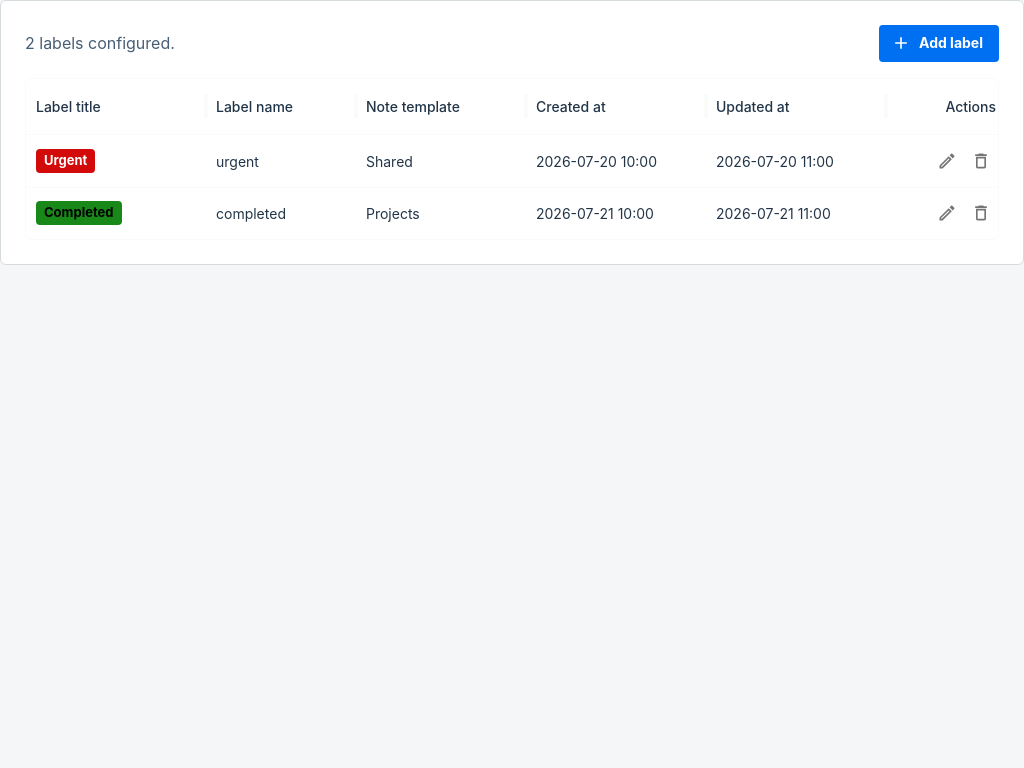
NoteLabelsSection › shows invalid color format feedback
Click the button "Add label" at (939, 43), box top-left (879, 25), bottom-right (999, 62)
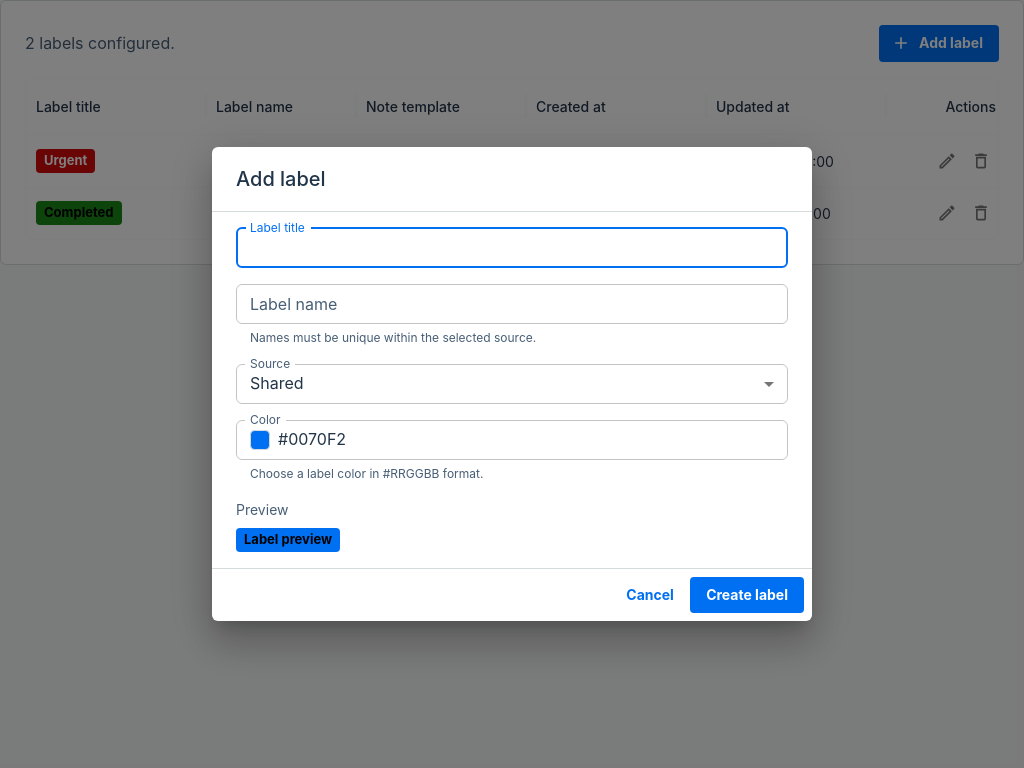
Type "Invalid color" into the field labelled "Label title" at (512, 248), box top-left (236, 228), bottom-right (788, 268)
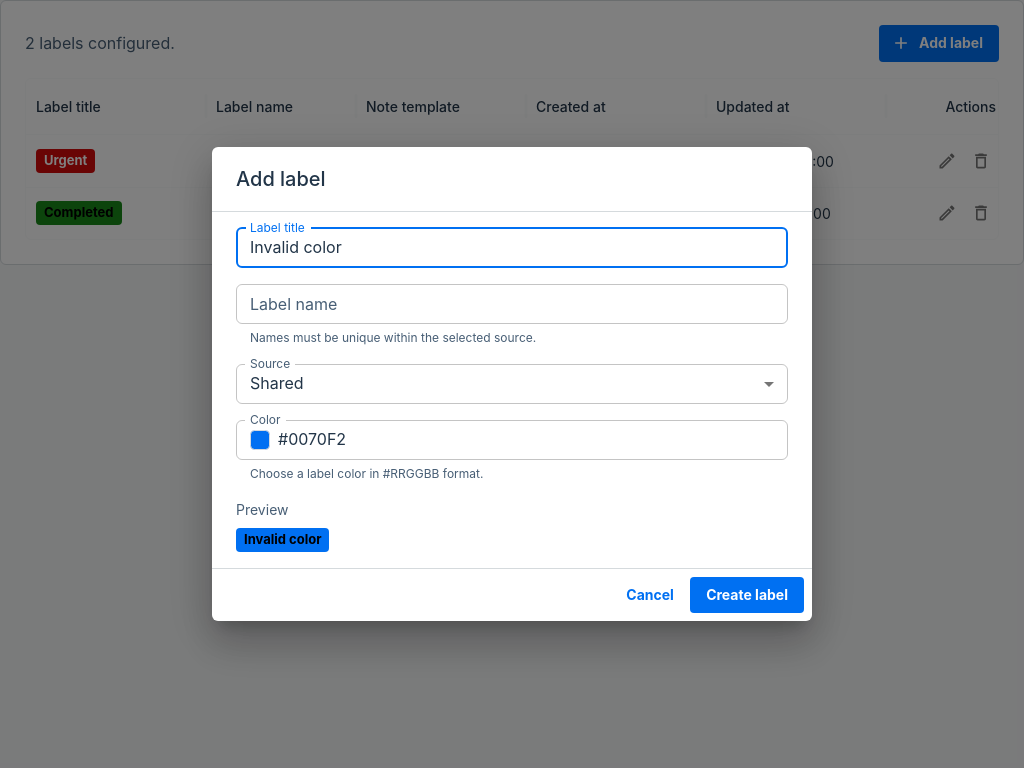
Type "invalid-color" into the field labelled "Label name" at (512, 304), box top-left (236, 284), bottom-right (788, 324)
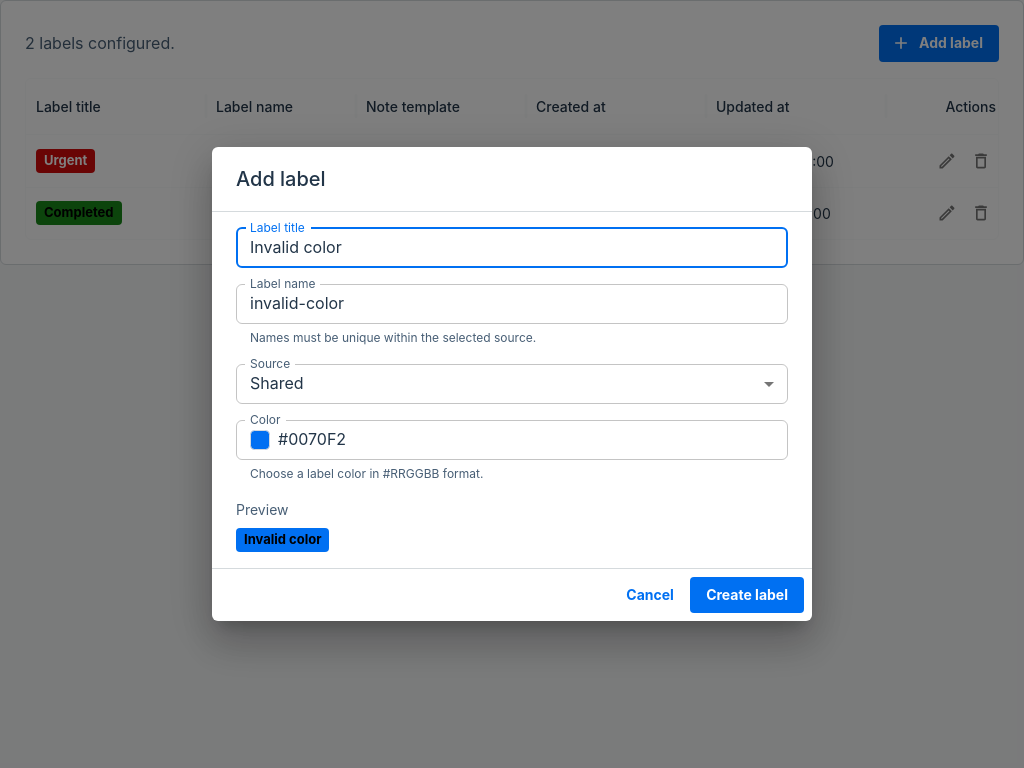
Replace the text in the field labelled "Color" with "blue" at (533, 440), box top-left (278, 420), bottom-right (788, 460)
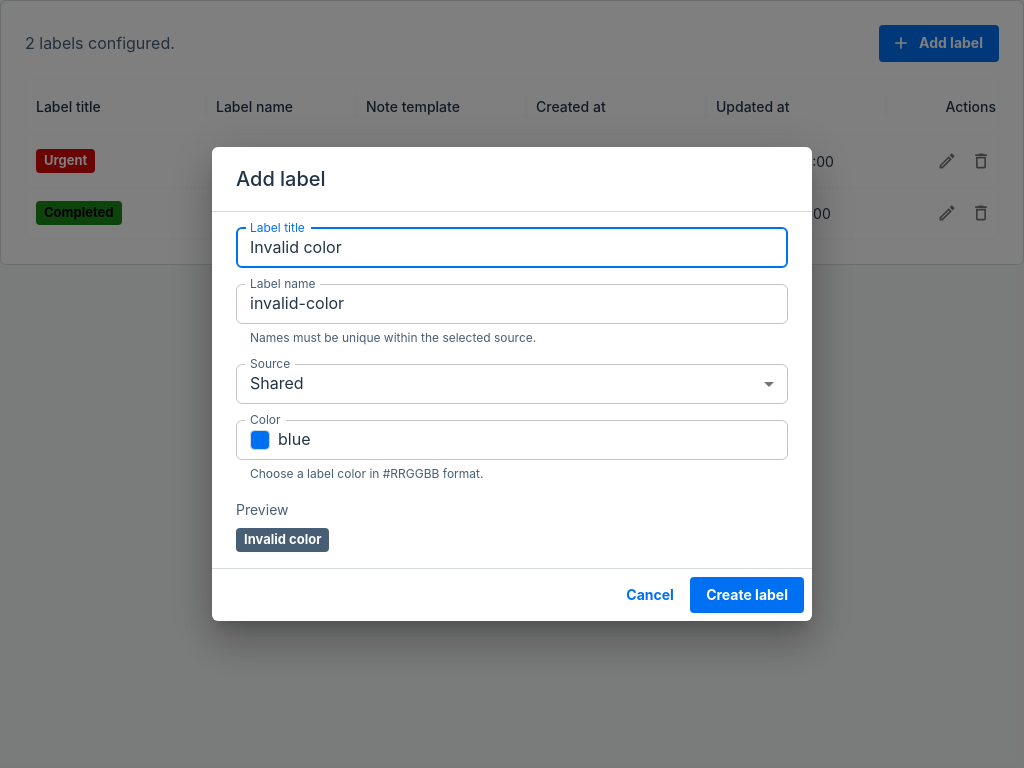
Click the button "Create label" at (747, 595), box top-left (690, 577), bottom-right (804, 613)
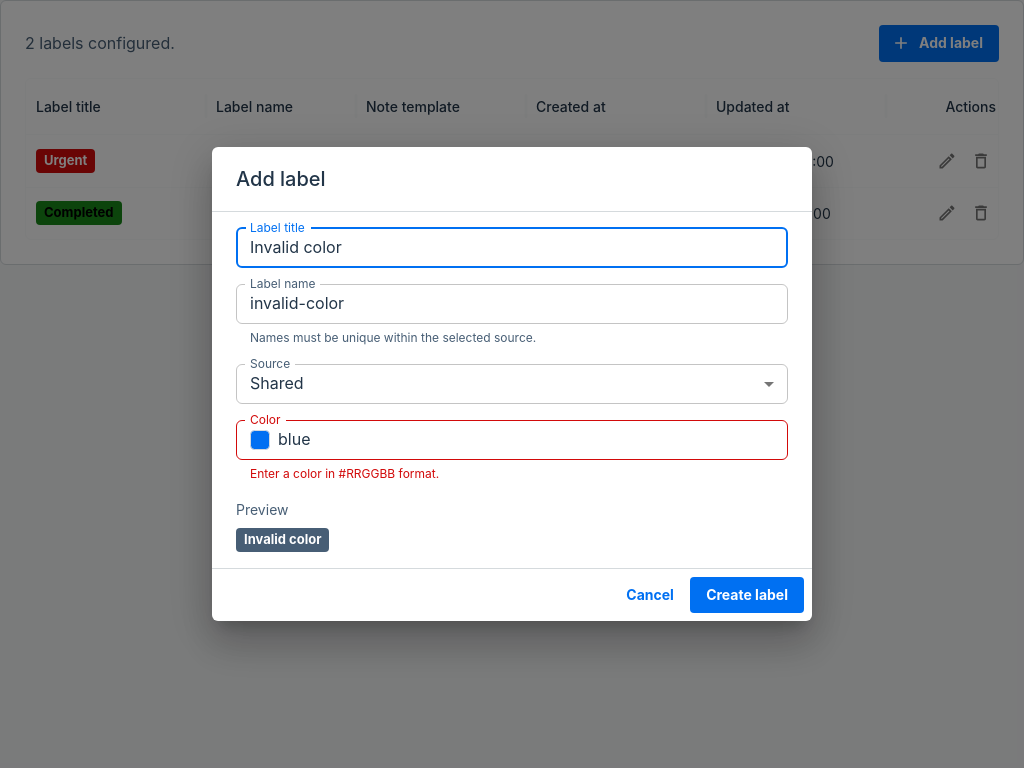
Expected: the text "Enter a color in #RRGGBB format." is shown, top-left (250, 466), bottom-right (439, 481)
